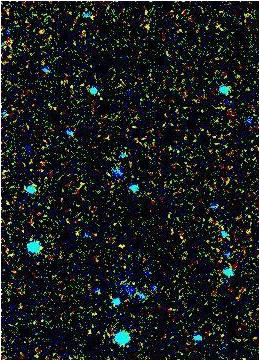star: (28, 18, 58, 48)
